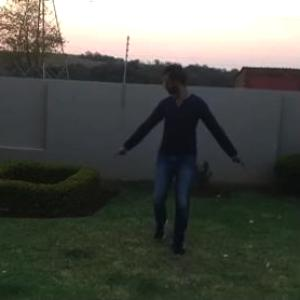land: (97, 51, 276, 284)
